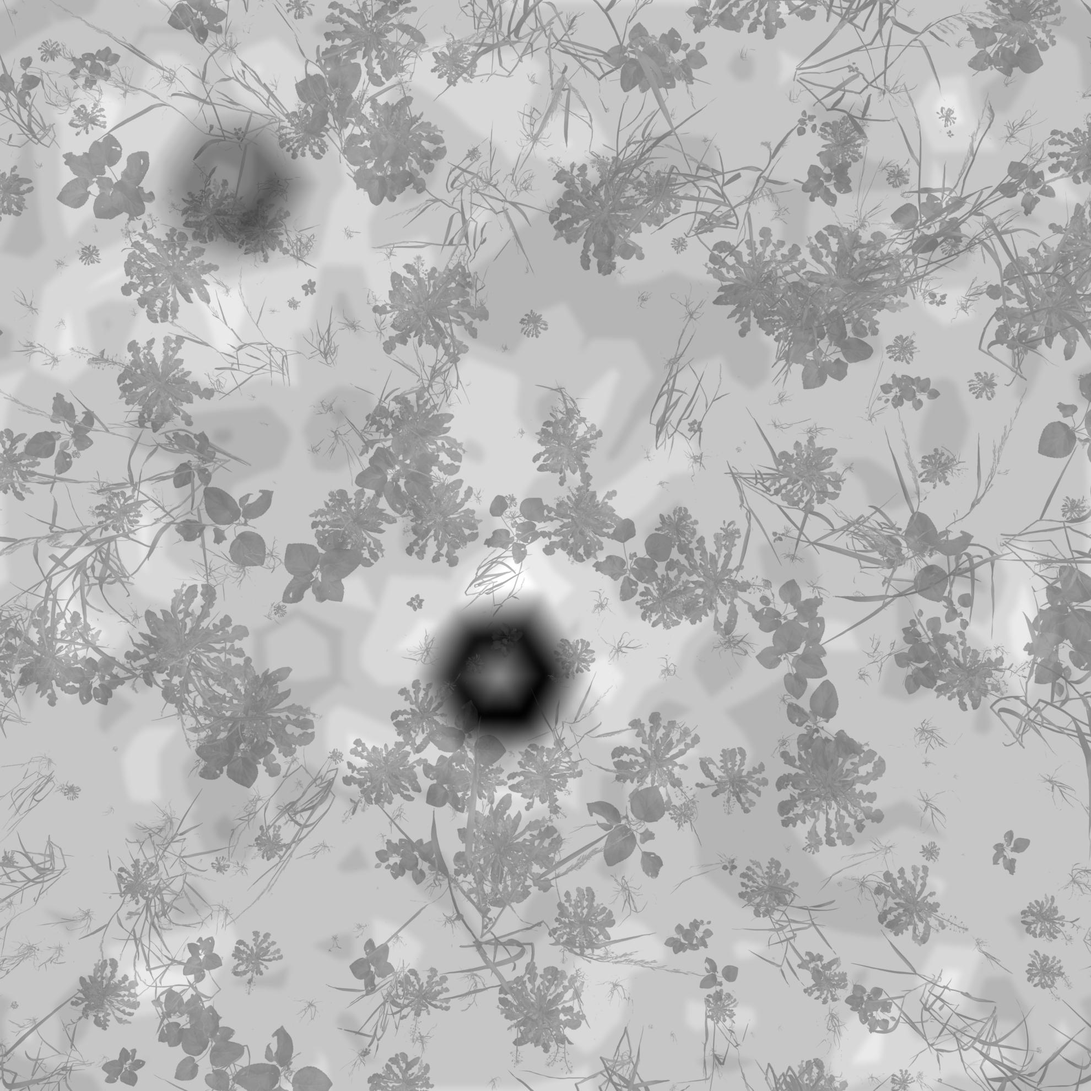landmine: (433, 600, 580, 758), (158, 118, 320, 251)
